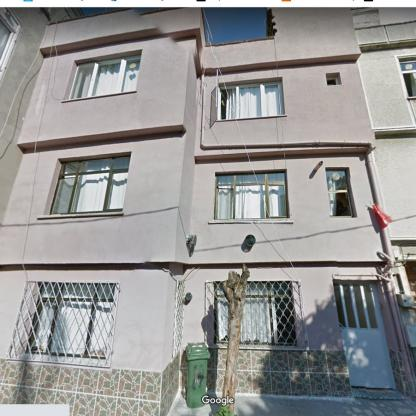door: (335, 281, 396, 388)
window: (26, 283, 116, 358), (49, 158, 129, 213), (242, 281, 297, 344), (216, 171, 288, 219), (69, 56, 141, 99), (218, 82, 282, 120), (326, 168, 355, 216), (396, 54, 414, 121), (2, 9, 20, 75), (215, 283, 228, 343), (327, 74, 340, 86)
